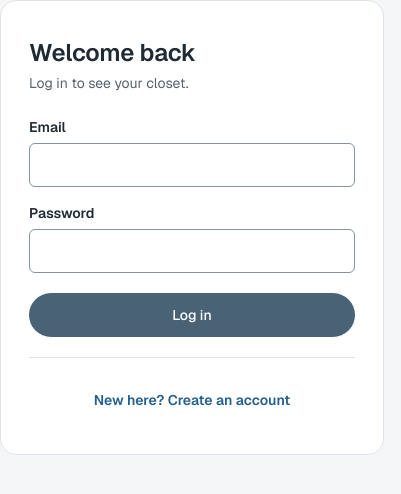
Test case: AuthForm › toggles back to sign-in
Click the button "New here? Create an account" at (192, 400), box [29,378,355,422]
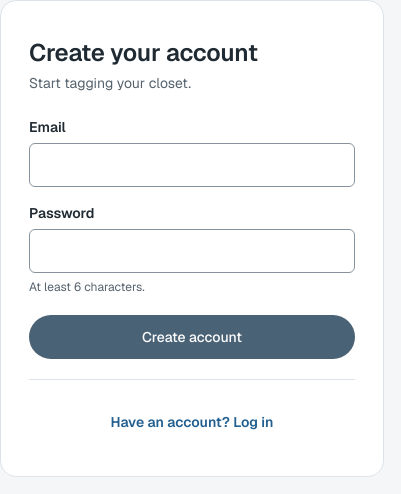
Click the button "Have an account? Log in" at (192, 422), box [29,400,355,444]
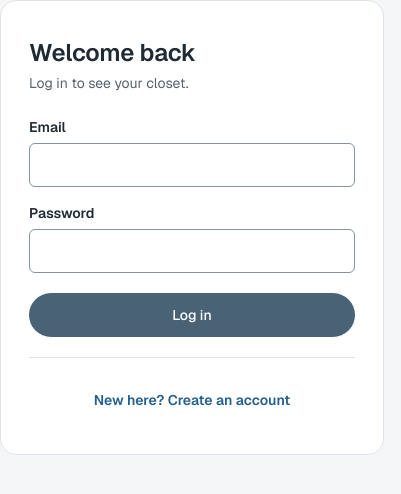
Result: the heading "Welcome back" is shown at [29,37,196,68]
